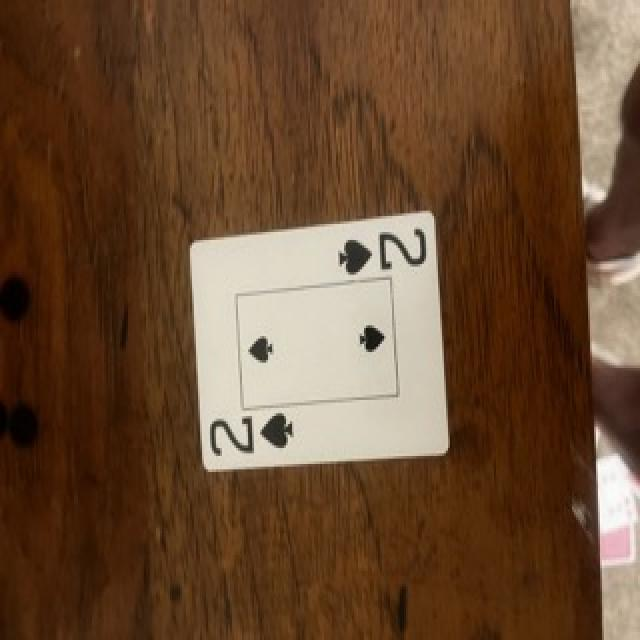2 of spades: (191, 213, 448, 470)
